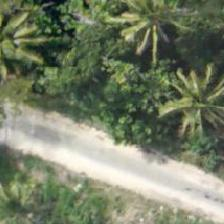coconut_tree: (157, 59, 223, 149), (105, 0, 195, 58), (0, 0, 49, 89), (0, 167, 61, 223)
